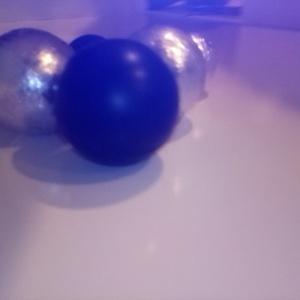alive_ball: (1, 27, 84, 135), (121, 24, 206, 121), (165, 31, 218, 89)
dead_ball: (58, 37, 179, 165), (66, 33, 114, 83)
